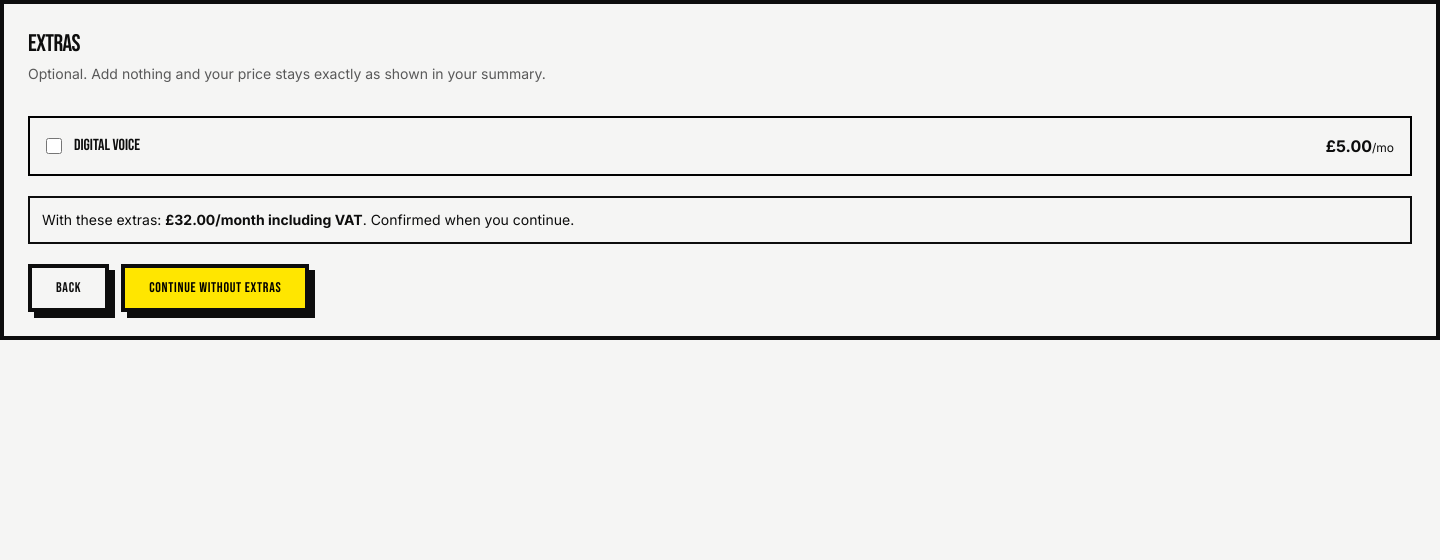
conversion-critical checkout › never skips the Digital Voice acknowledgement
Later steps or results of the test are not shown.
Click the text "Digital Voice" at (107, 146), box x1=74 y1=134 x2=140 y2=158
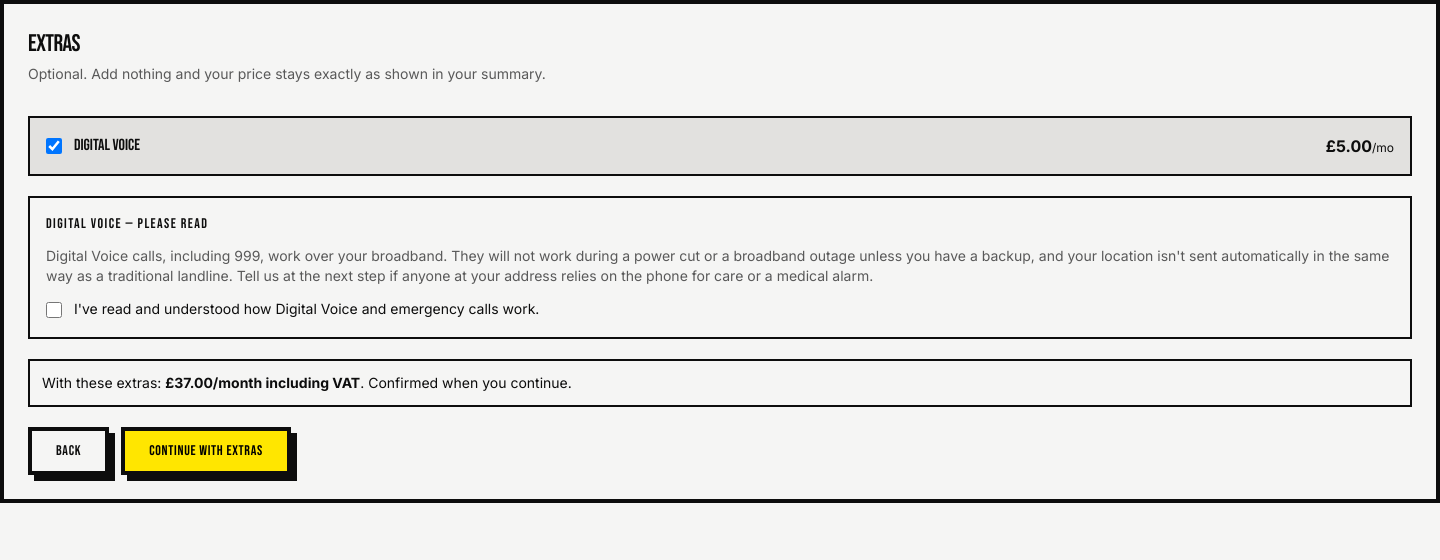
Click the button "Continue with extras" at (206, 451), box x1=121 y1=427 x2=291 y2=475
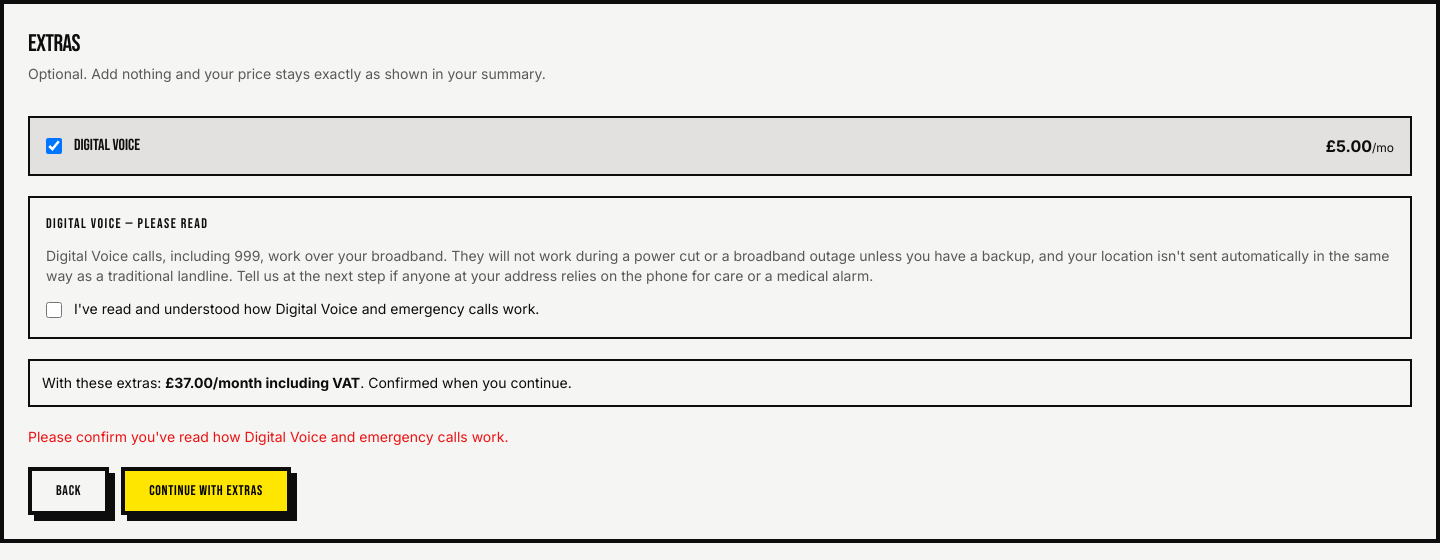
Now the message shows "emergency calls", box x1=28 y1=428 x2=508 y2=445
